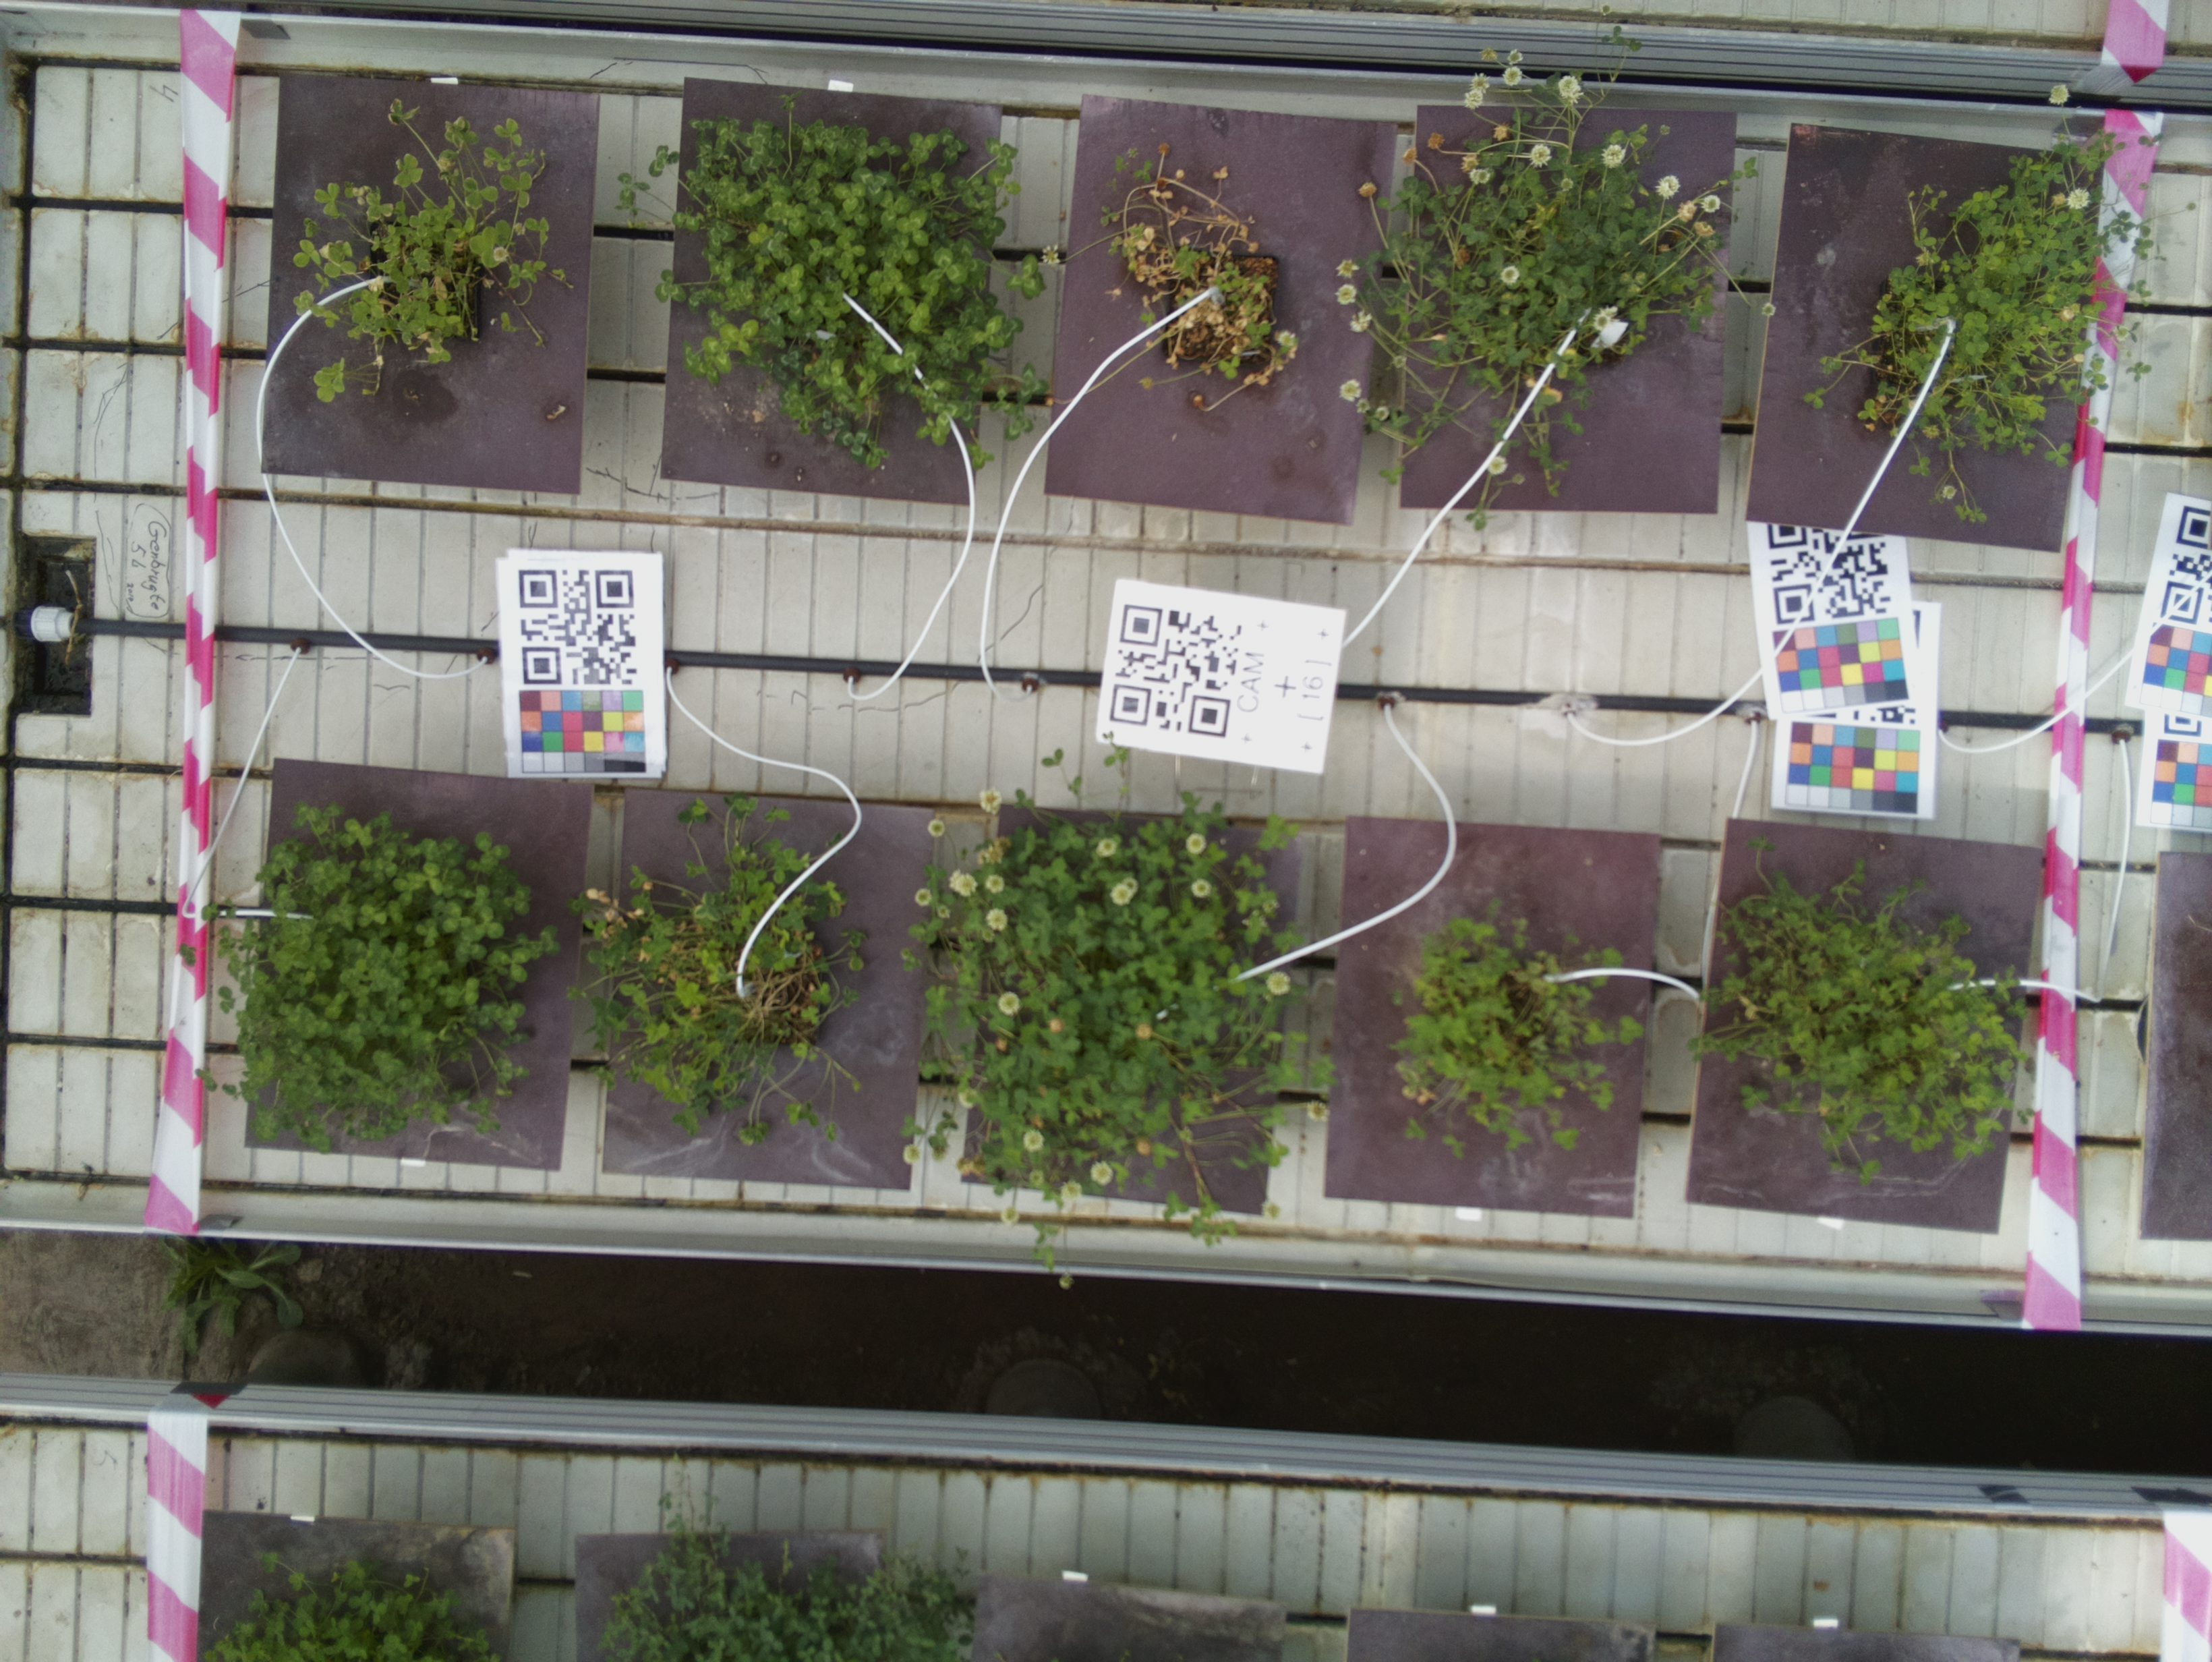POT: (262, 77, 606, 477), (667, 79, 988, 506), (1763, 133, 2083, 553), (1058, 106, 1383, 520), (251, 758, 576, 1168), (1706, 819, 2025, 1229), (1409, 106, 1725, 513), (976, 808, 1281, 1215), (1336, 814, 1646, 1213), (609, 791, 913, 1191)
QRCODE: (1091, 580, 1351, 772)
QRCOLOR: (492, 543, 674, 775), (1748, 525, 1919, 714)
